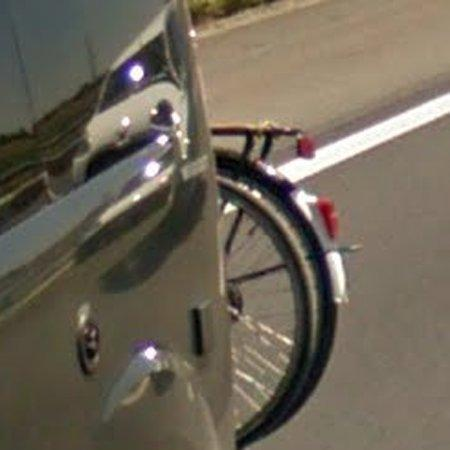bicycles: (212, 126, 348, 449)
